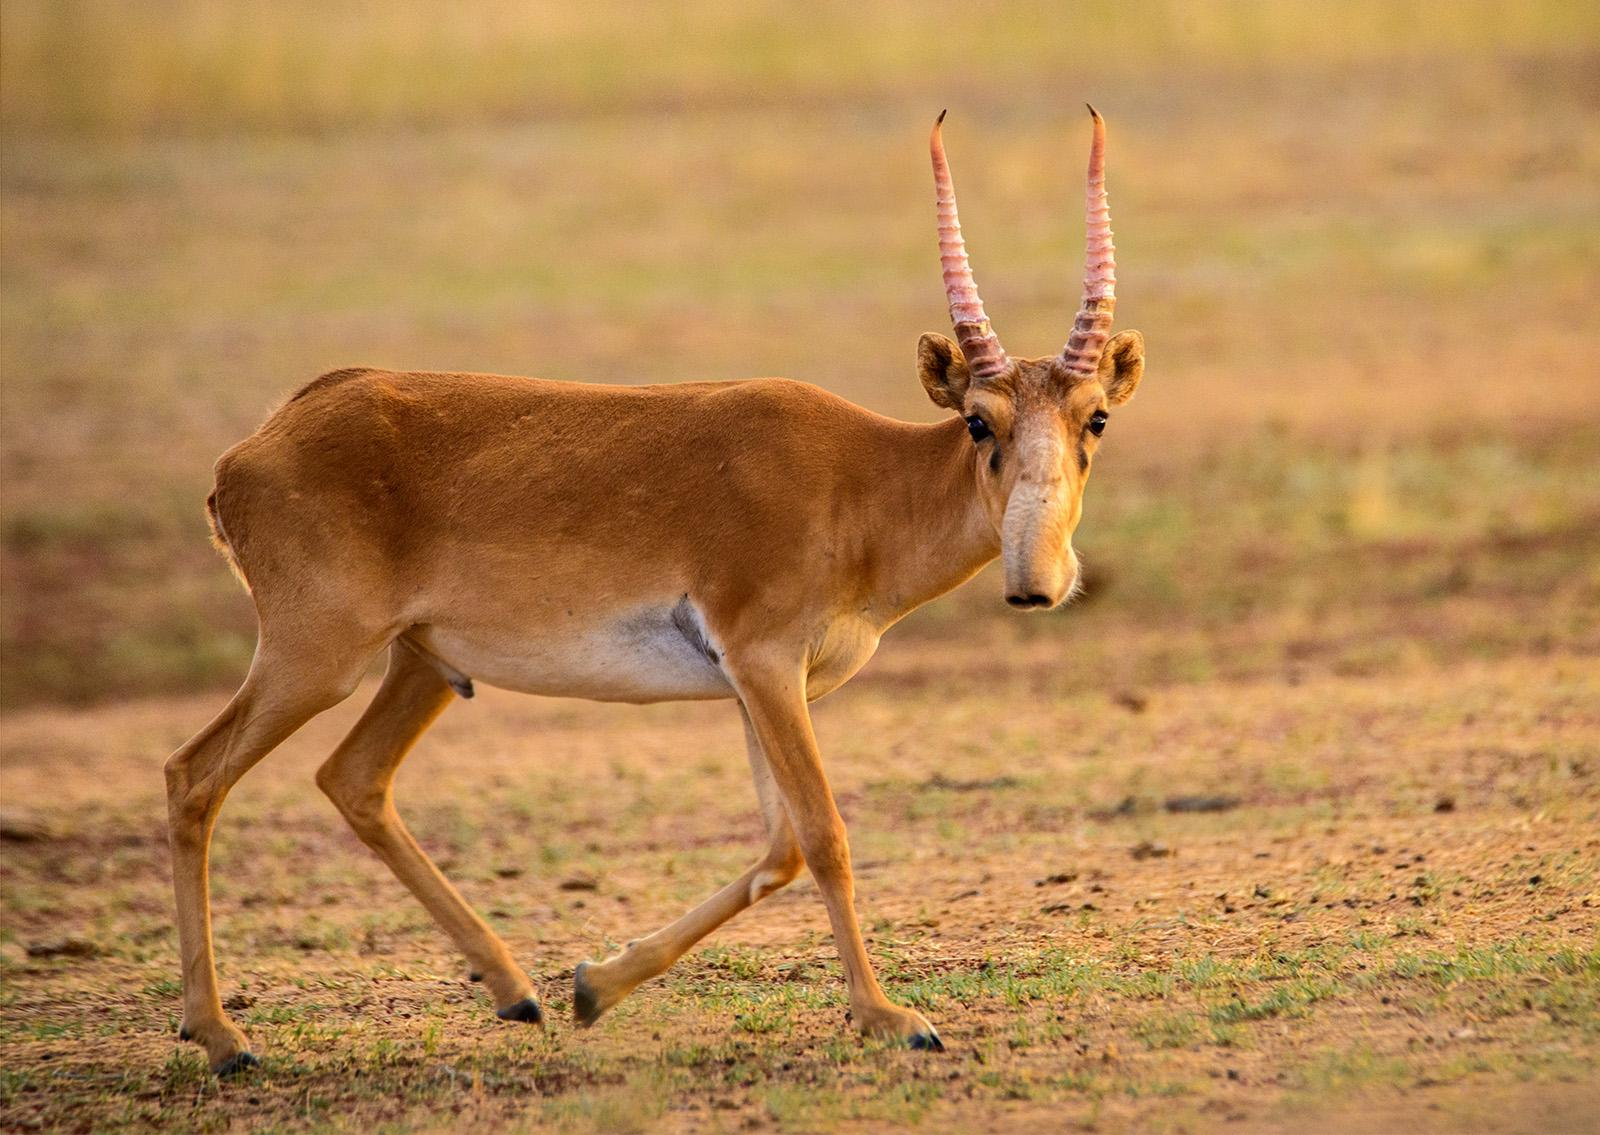saiga: (165, 102, 1144, 1082)
